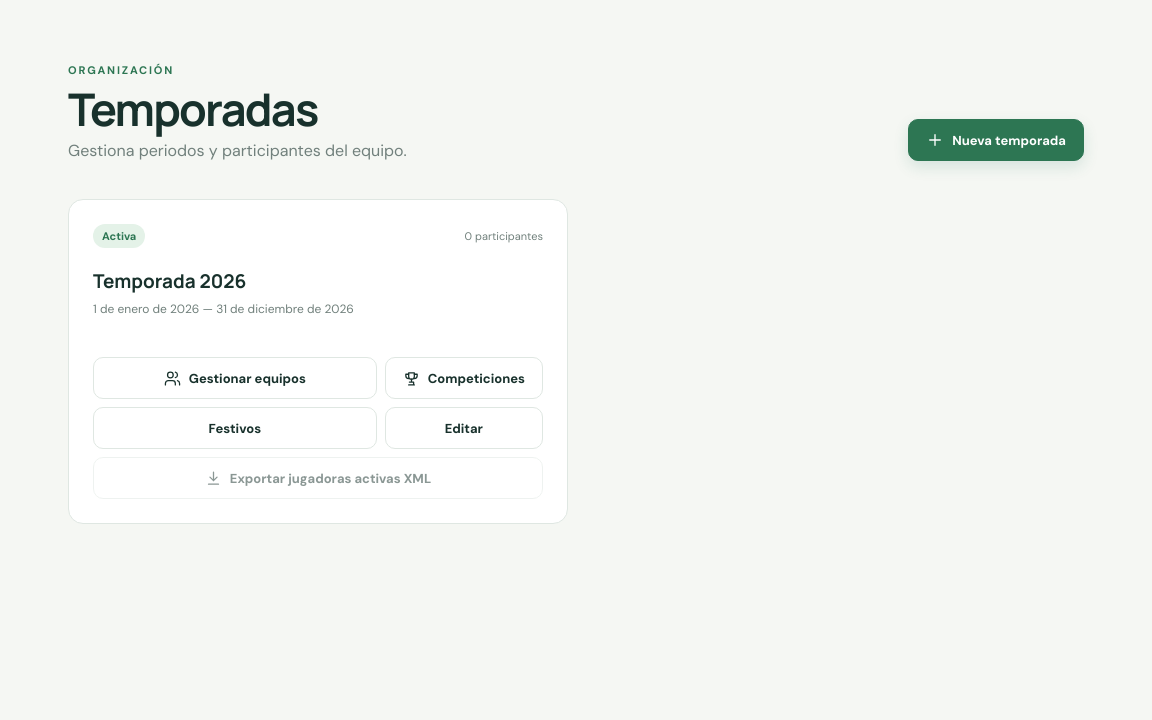
Test case: SeasonsView › displays team coaches one per line in role priority order
Click the button "Gestionar equipos".
click(235, 378)  # box [93,357,377,399]
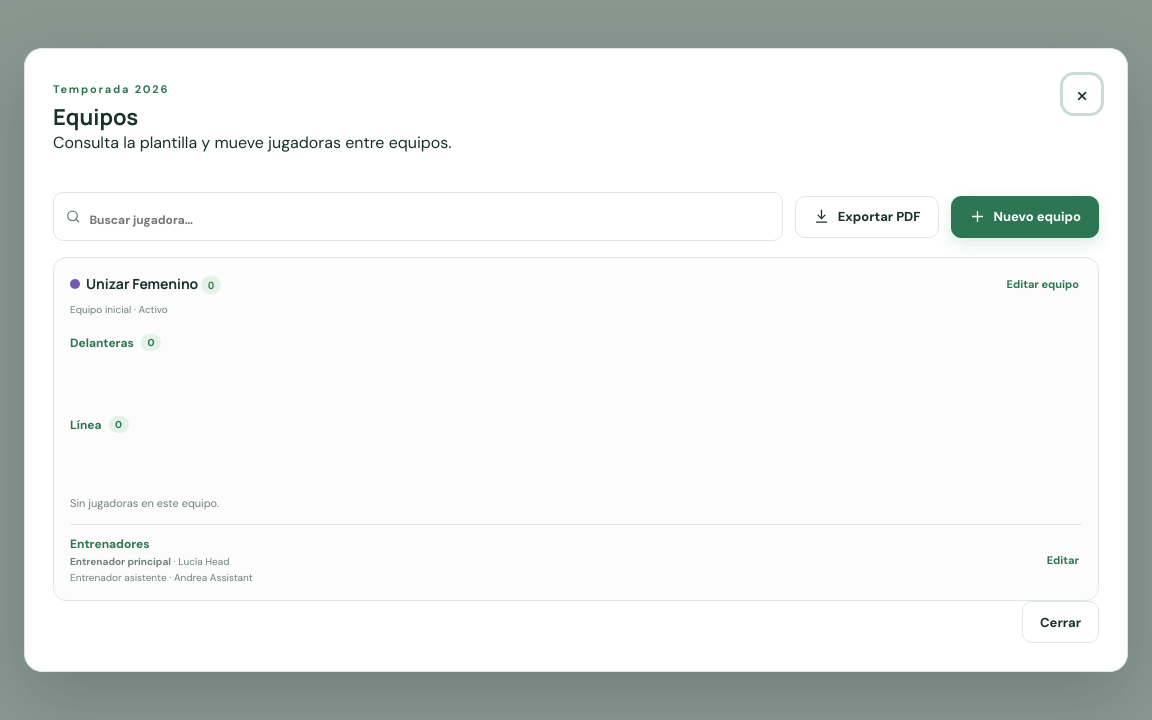
Result: the text "Entrenador principal" is shown at [70,555,171,568]
